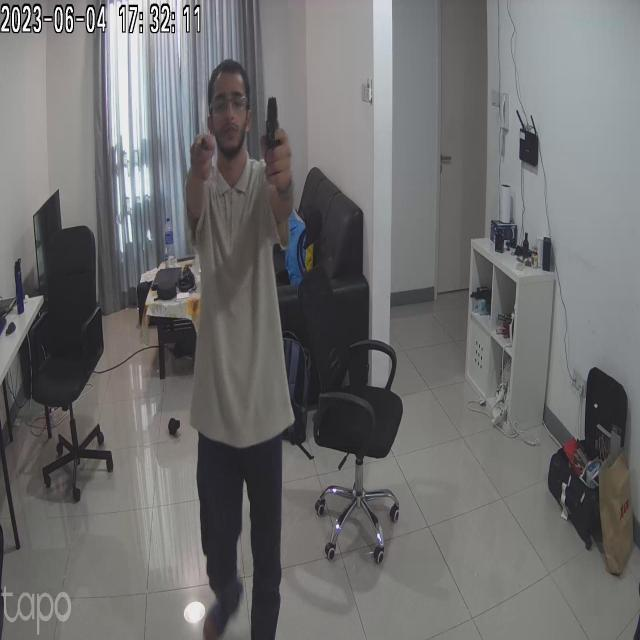Gun: (257, 88, 294, 162)
Knife: (172, 67, 218, 160)
